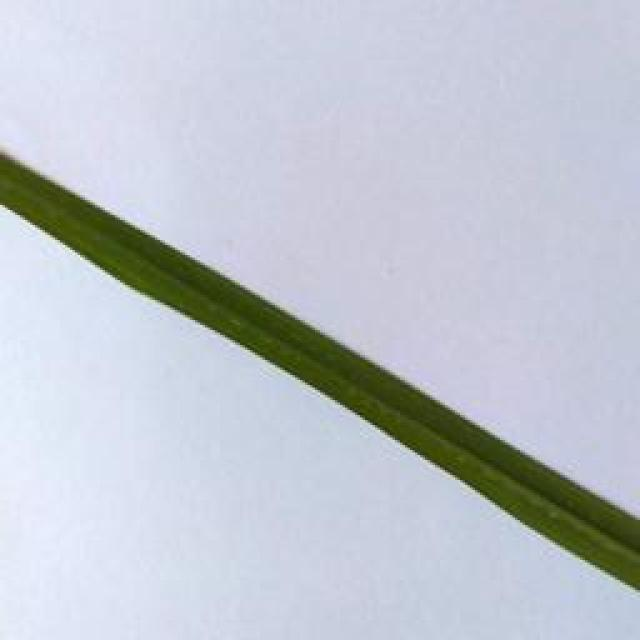Healthy-Plant: (0, 153, 640, 589)
